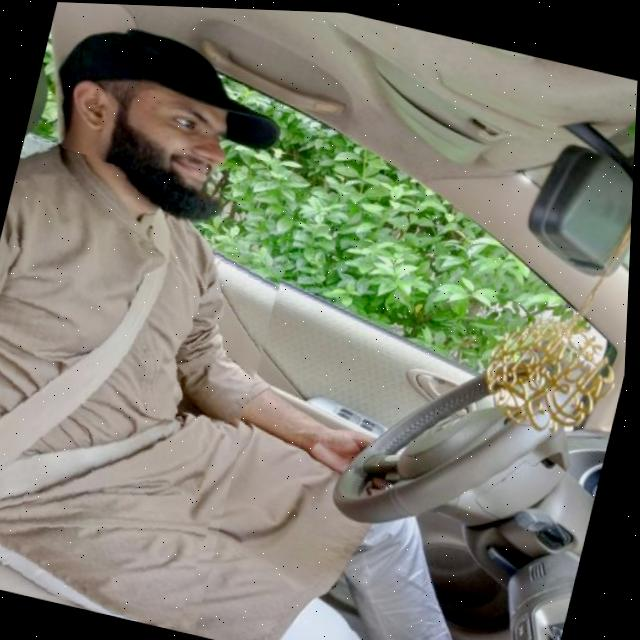seatbelt: (0, 139, 300, 632)
